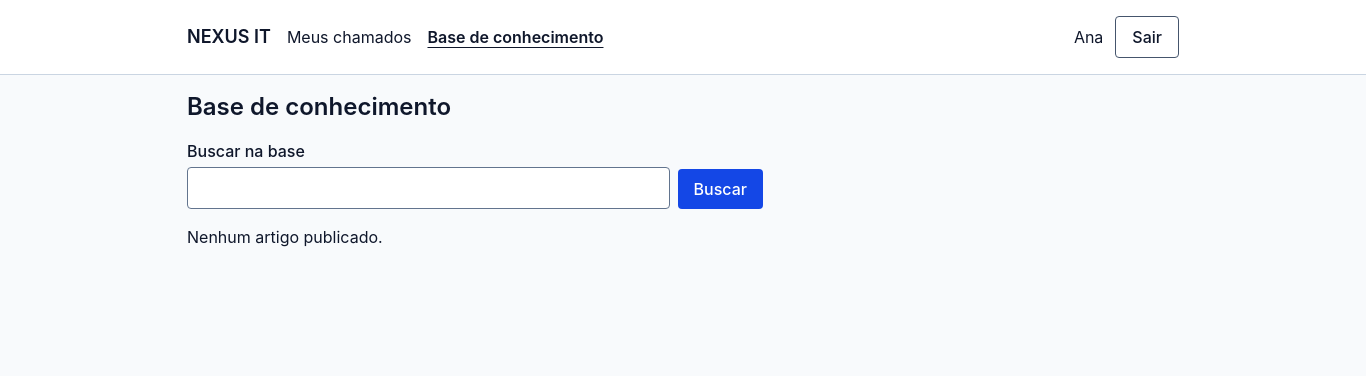
Scenario: aviso do modo da busca (FR-13) › busca por palavras sem degradação (semântica desligada): só indica o modo
This screenshot has width=1366, height=376.
Type "impressora" into the search field labelled "Buscar na base" at (428, 188), box [187,167,670,209]
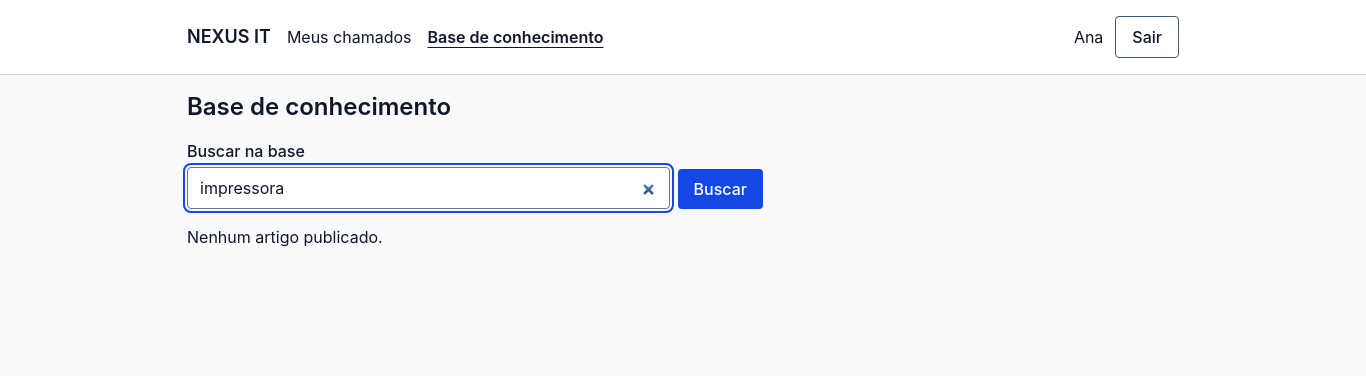
Click the button "Buscar" at (720, 189), box [678,169,763,209]
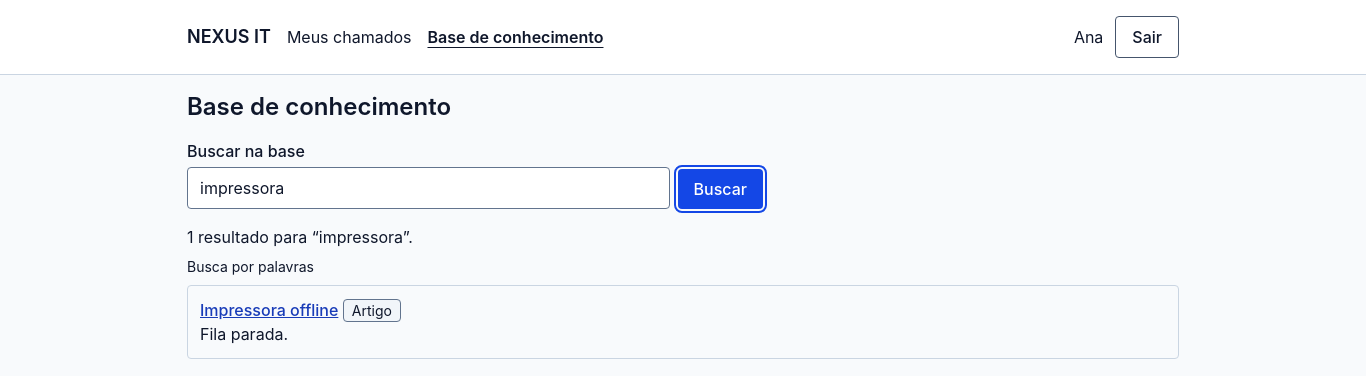
Check: the link "Impressora offline" is shown, box [200,300,338,320]
Check: the text "Busca por palavras" is shown, box [187,258,314,275]
